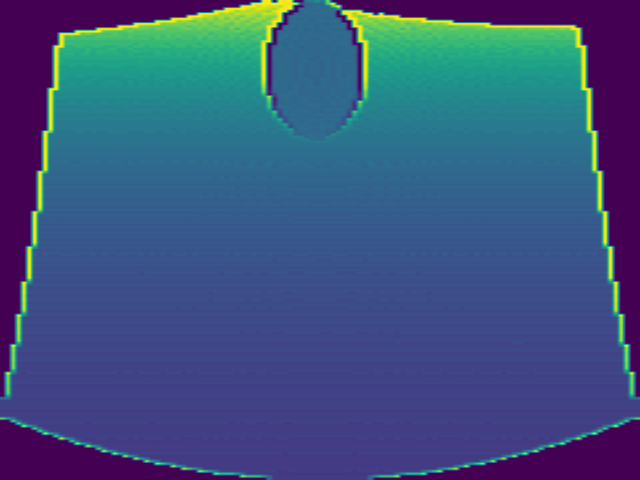sphere: (263, 1, 368, 142)
